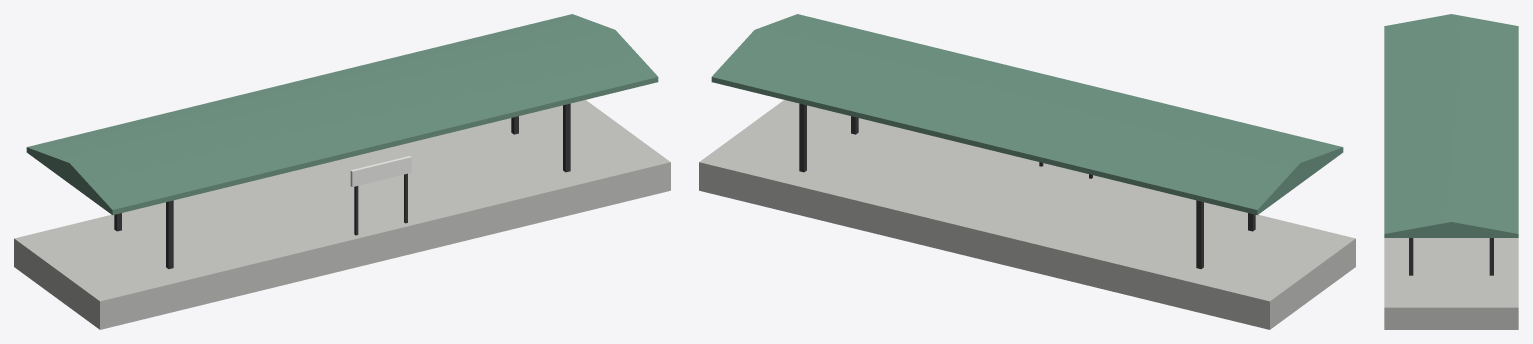
The model's file is kyoto_station.glb.
3 views of the same model, side by side, from view 1: azimuth 30°, elevation 25°; view 2: azimuth 150°, elevation 25°; view 3: azimuth 270°, elevation 25° (orthographic). The views are drawn at different scales.
Visible parts, largest first — view 1: platform, canopy_roof, station_sign, canopy_post_2, canopy_post_1; view 2: platform, canopy_roof, canopy_post_4, canopy_post_3; view 3: canopy_roof, platform, canopy_post_2, canopy_post_4.
Boxes of the visible parts, <box> form: platform: <box>14,100,670,329</box>; canopy_roof: <box>26,14,658,215</box>; station_sign: <box>350,156,411,186</box>; canopy_post_2: <box>563,103,570,172</box>; canopy_post_1: <box>166,200,173,268</box>; platform: <box>699,100,1355,329</box>; canopy_roof: <box>711,14,1343,215</box>; canopy_post_4: <box>799,103,806,172</box>; canopy_post_3: <box>1196,200,1203,268</box>; canopy_roof: <box>1384,14,1518,237</box>; platform: <box>1384,238,1518,329</box>; canopy_post_2: <box>1409,238,1413,275</box>; canopy_post_4: <box>1489,238,1493,275</box>.
Bounding box in the file's own units: 23 × 5.1 × 6.
